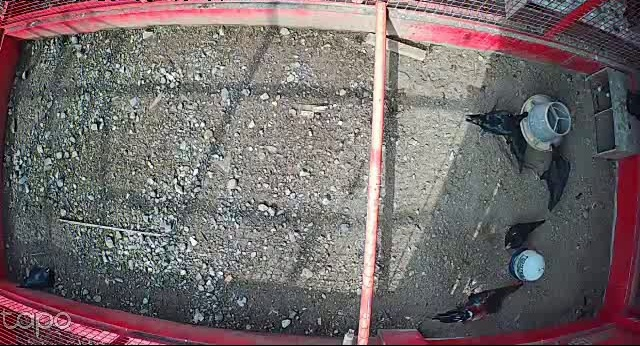Chicken: (526, 140, 572, 212), (464, 105, 532, 138), (499, 127, 535, 173), (501, 216, 546, 252), (15, 262, 53, 292)
Drinker: (508, 245, 546, 283)
Feeder: (517, 91, 575, 152)
Rooster: (431, 275, 524, 328)
